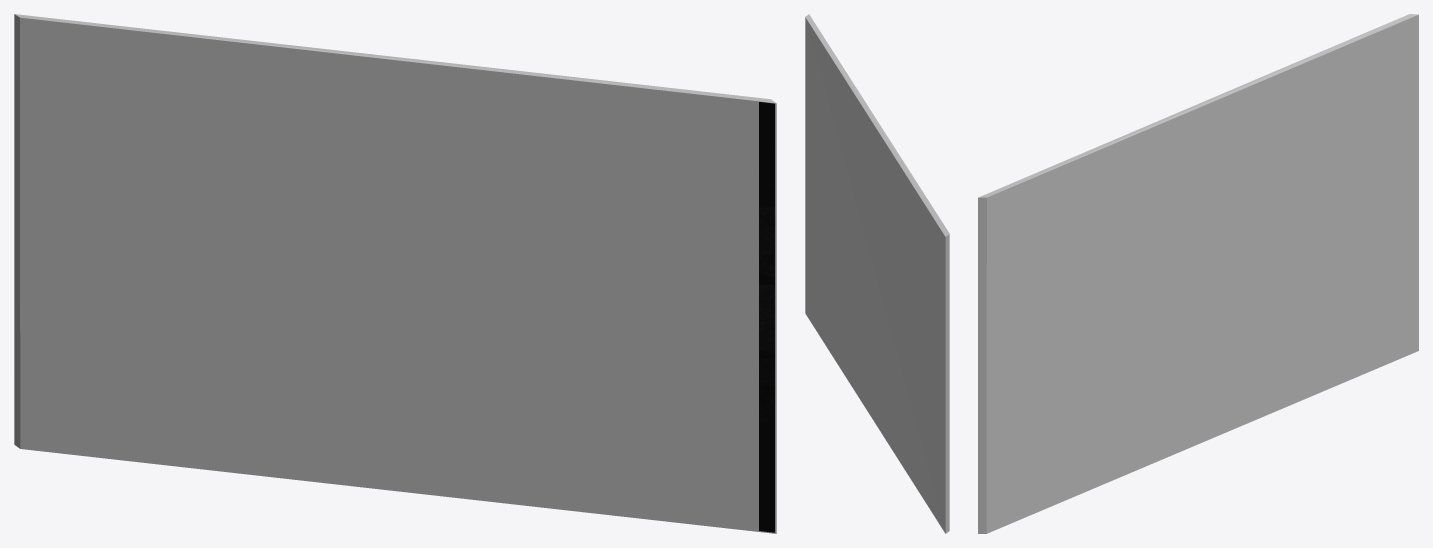
File: MainCity_Prop_Computer_03_003.fbx
3 views of the same model, side by side, from view 1: azimuth 30°, elevation 25°; view 2: azimuth 150°, elevation 25°; view 3: azimuth 270°, elevation 25° (orthographic). The views are drawn at different scales.
Visible parts, largest first — view 1: MainCity_Prop_Computer_03_003_ConvexHulls, MainCity_Prop_Computer_03_003; view 2: MainCity_Prop_Computer_03_003_ConvexHulls; view 3: MainCity_Prop_Computer_03_003_ConvexHulls.
Boxes of the visible parts, bbox=[...] form: MainCity_Prop_Computer_03_003_ConvexHulls: bbox=[14, 14, 776, 533]; MainCity_Prop_Computer_03_003: bbox=[759, 102, 774, 532]; MainCity_Prop_Computer_03_003_ConvexHulls: bbox=[805, 14, 949, 533]; MainCity_Prop_Computer_03_003_ConvexHulls: bbox=[978, 14, 1418, 533].
Size of the model in its own units: 43.49 by 44.25 by 37.31.
2 materials, 1 textured.
